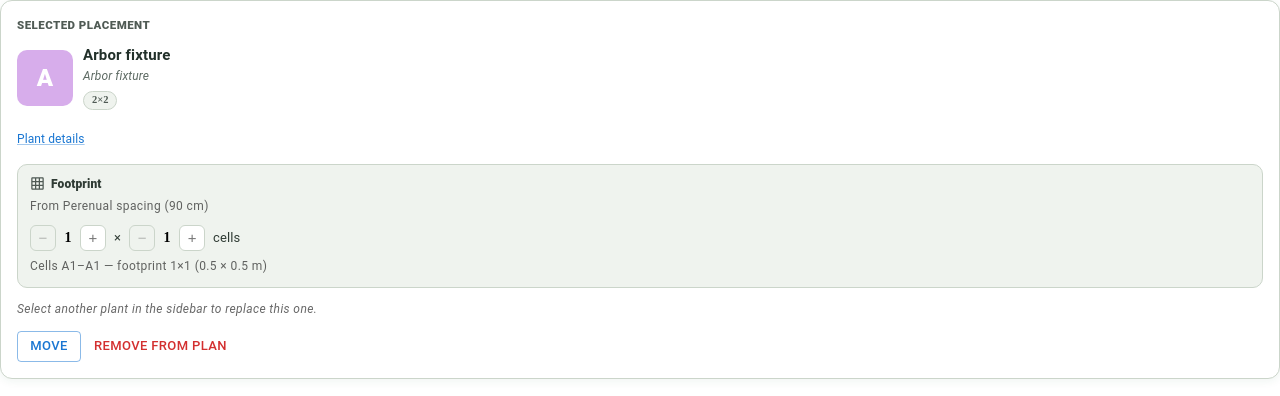
Scenario: PlacementDetailPanel footprint section (SMA-193 lot 3) › bounds: decrease disables at 1, increase disables at the grid dimension
The width and height of the screenshot is (1280, 396).
Expected: the button named "Decrease rows" is disabled, [30,225,56,251]
Expected: the button named "Decrease columns" is disabled, [129,225,155,251]
Click the button named "Increase rows" at (93, 238), box [80,225,106,251]
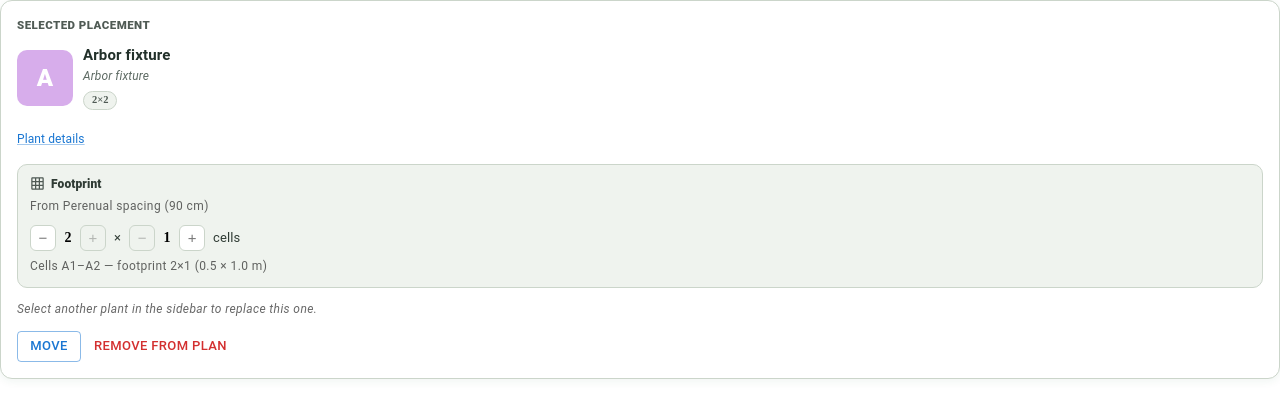
Expected: the button named "Increase columns" is enabled, [179,225,205,251]
Expected: the button named "Increase rows" is disabled, [80,225,106,251]
